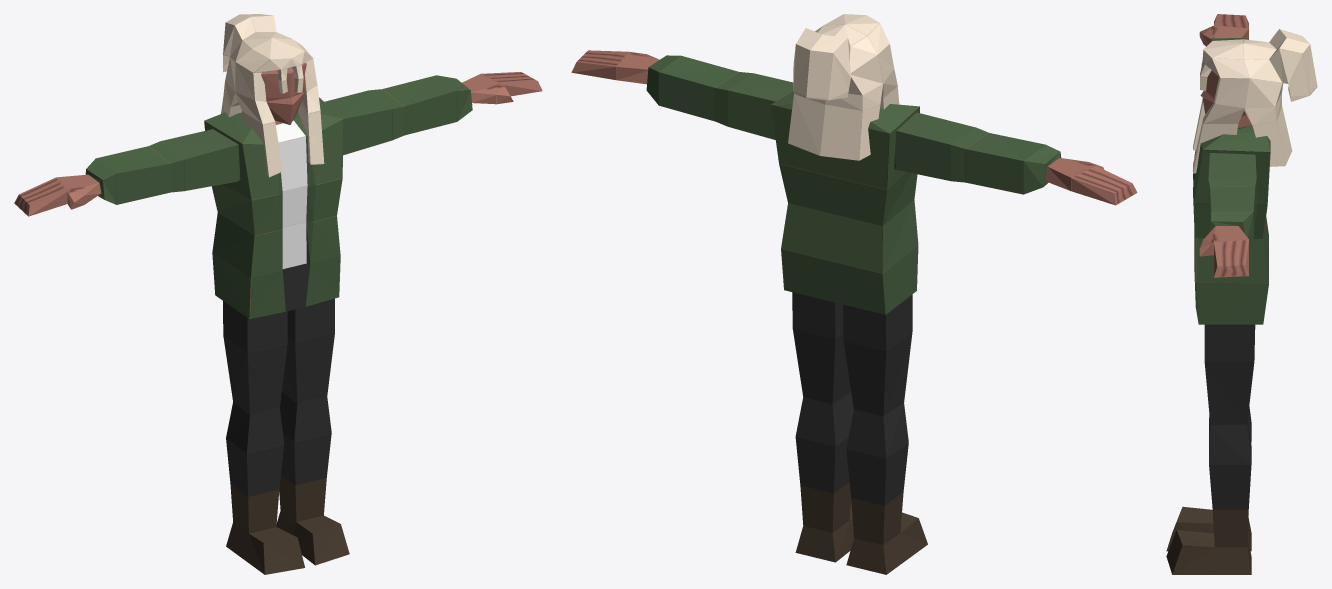
Rendered from Axel Model.obj.
3 views of the same model, side by side, from view 1: azimuth 30°, elevation 25°; view 2: azimuth 150°, elevation 25°; view 3: azimuth 270°, elevation 25° (orthographic). The views are drawn at different scales.
Visible parts, largest first — view 1: Default; view 2: Default; view 3: Default.
Boxes of the visible parts, bbox=[...] form: Default: bbox=[14, 14, 542, 574]; Default: bbox=[571, 14, 1137, 574]; Default: bbox=[1166, 14, 1317, 574].
Size of the model in its own units: 25.75 by 24.25 by 6.44.
1 material, 1 textured.
